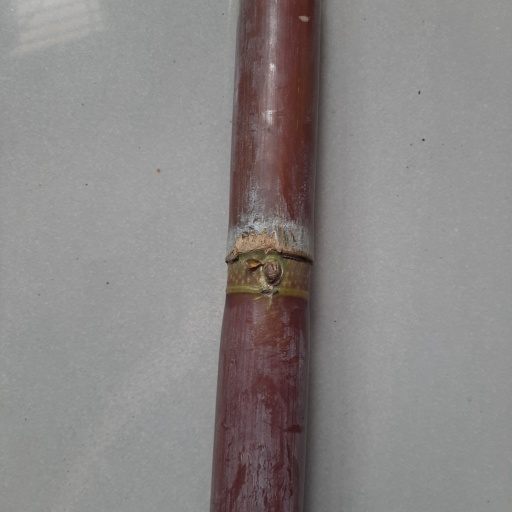Bud: (262, 259, 282, 286)
